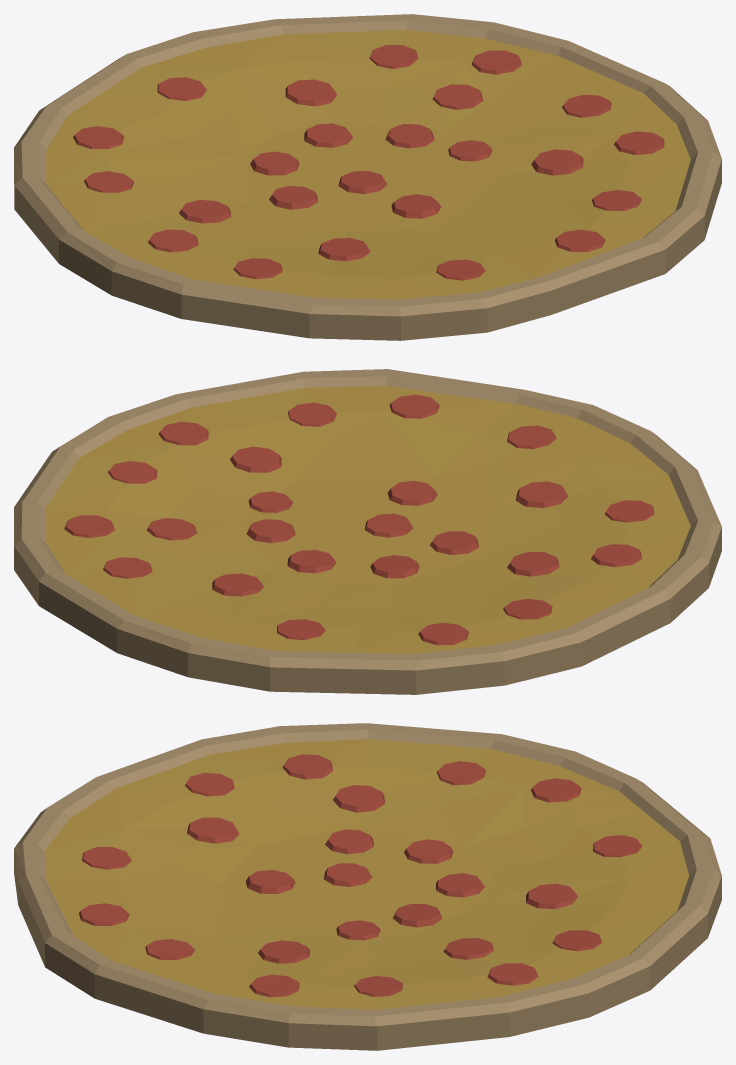
The model's file is pizza.glb.
3 views of the same model, one above another, from view 1: azimuth 30°, elevation 25°; view 2: azimuth 150°, elevation 25°; view 3: azimuth 270°, elevation 25° (orthographic).
Parts seen in each view (by area): view 1: Pizza; view 2: Pizza; view 3: Pizza.
Part boxes in pixels (x1,y1,x2,y2): Pizza: [14, 14, 721, 340]; Pizza: [14, 369, 721, 694]; Pizza: [14, 723, 721, 1050].
Size of the model in its own units: 3.37 by 0.1609 by 3.36.
